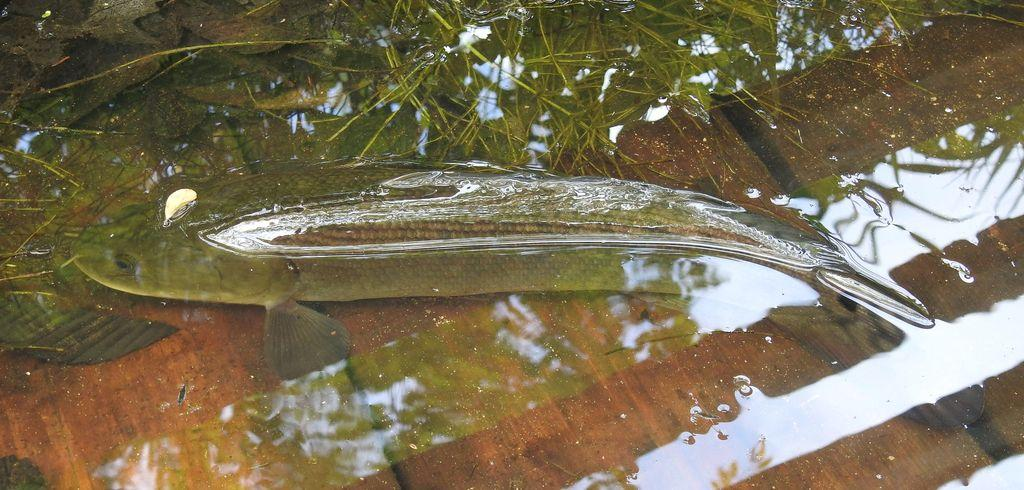Mudfish: (76, 157, 987, 429)
